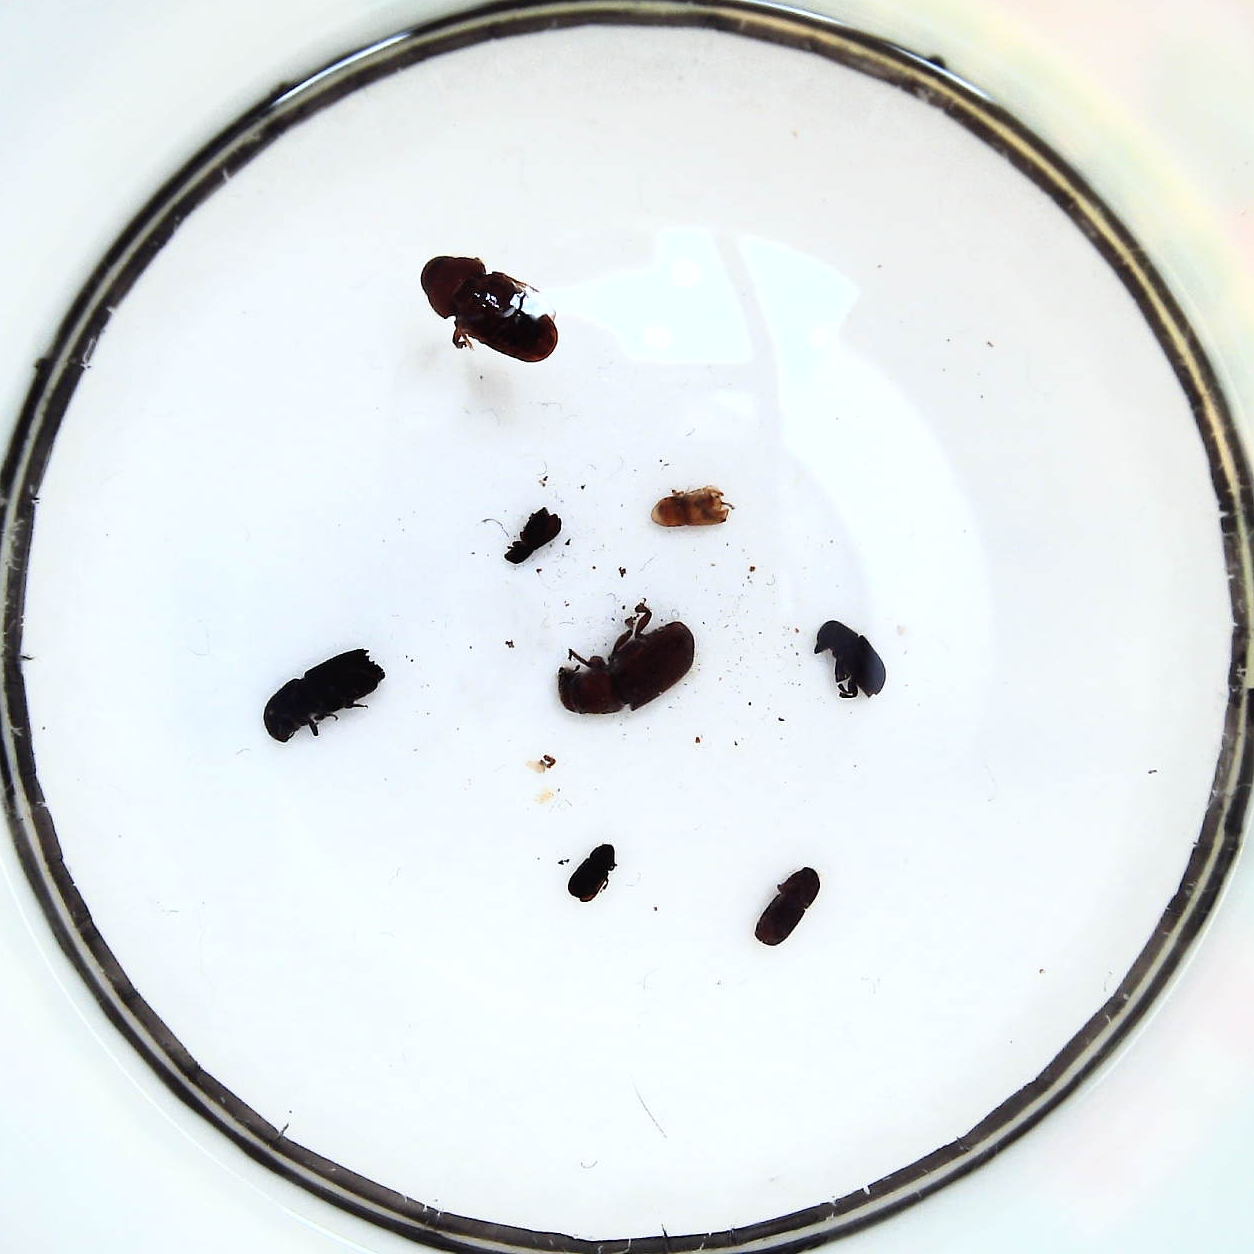Boerner: (264, 649, 385, 743)
Leconte: (421, 256, 558, 363), (558, 621, 694, 714)
acuminatus: (504, 508, 562, 563), (567, 843, 616, 903)
armandi: (813, 621, 887, 699)
coleoptera: (650, 488, 729, 527)
linnaeus: (754, 866, 820, 945)
